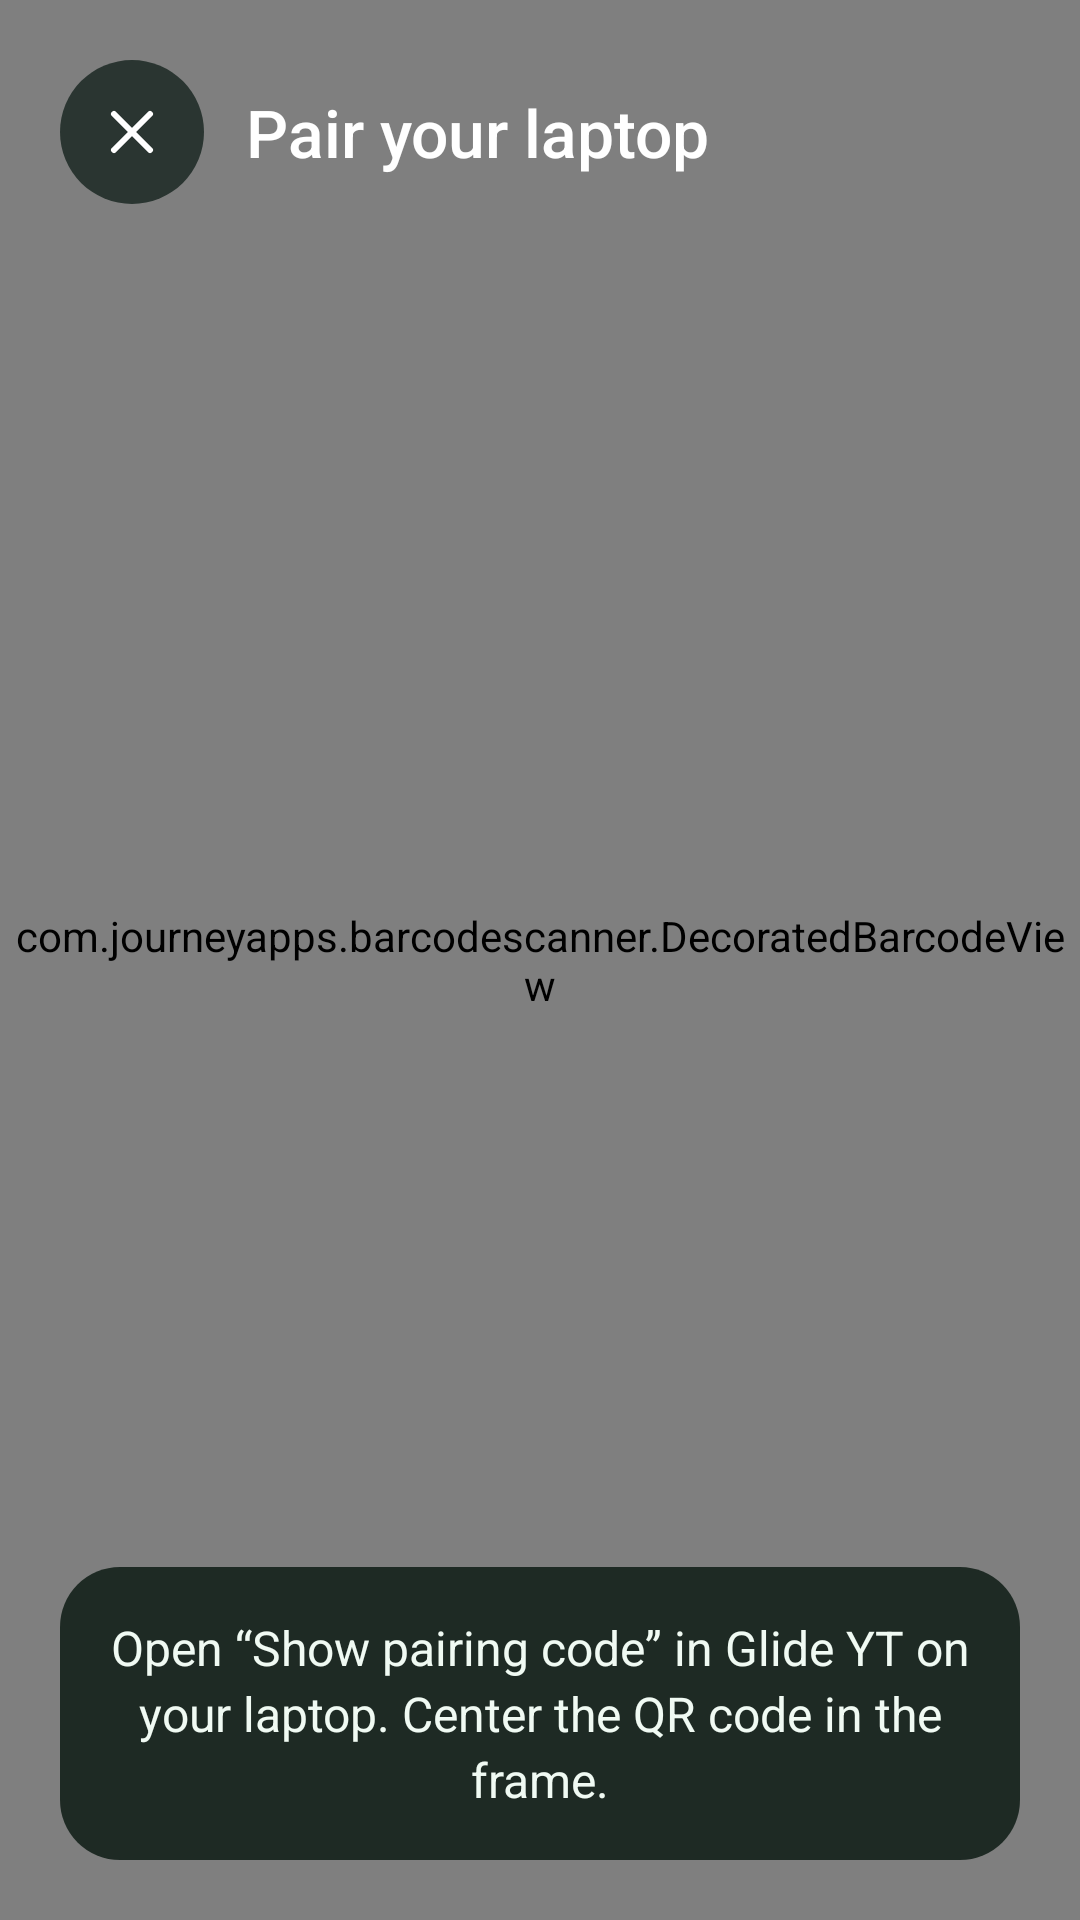

Screen size 1080×1920. Icon name, then its box in pixels as detection(x1, y1, x2, y2):
Close scanner: detection(60, 60, 204, 204)
